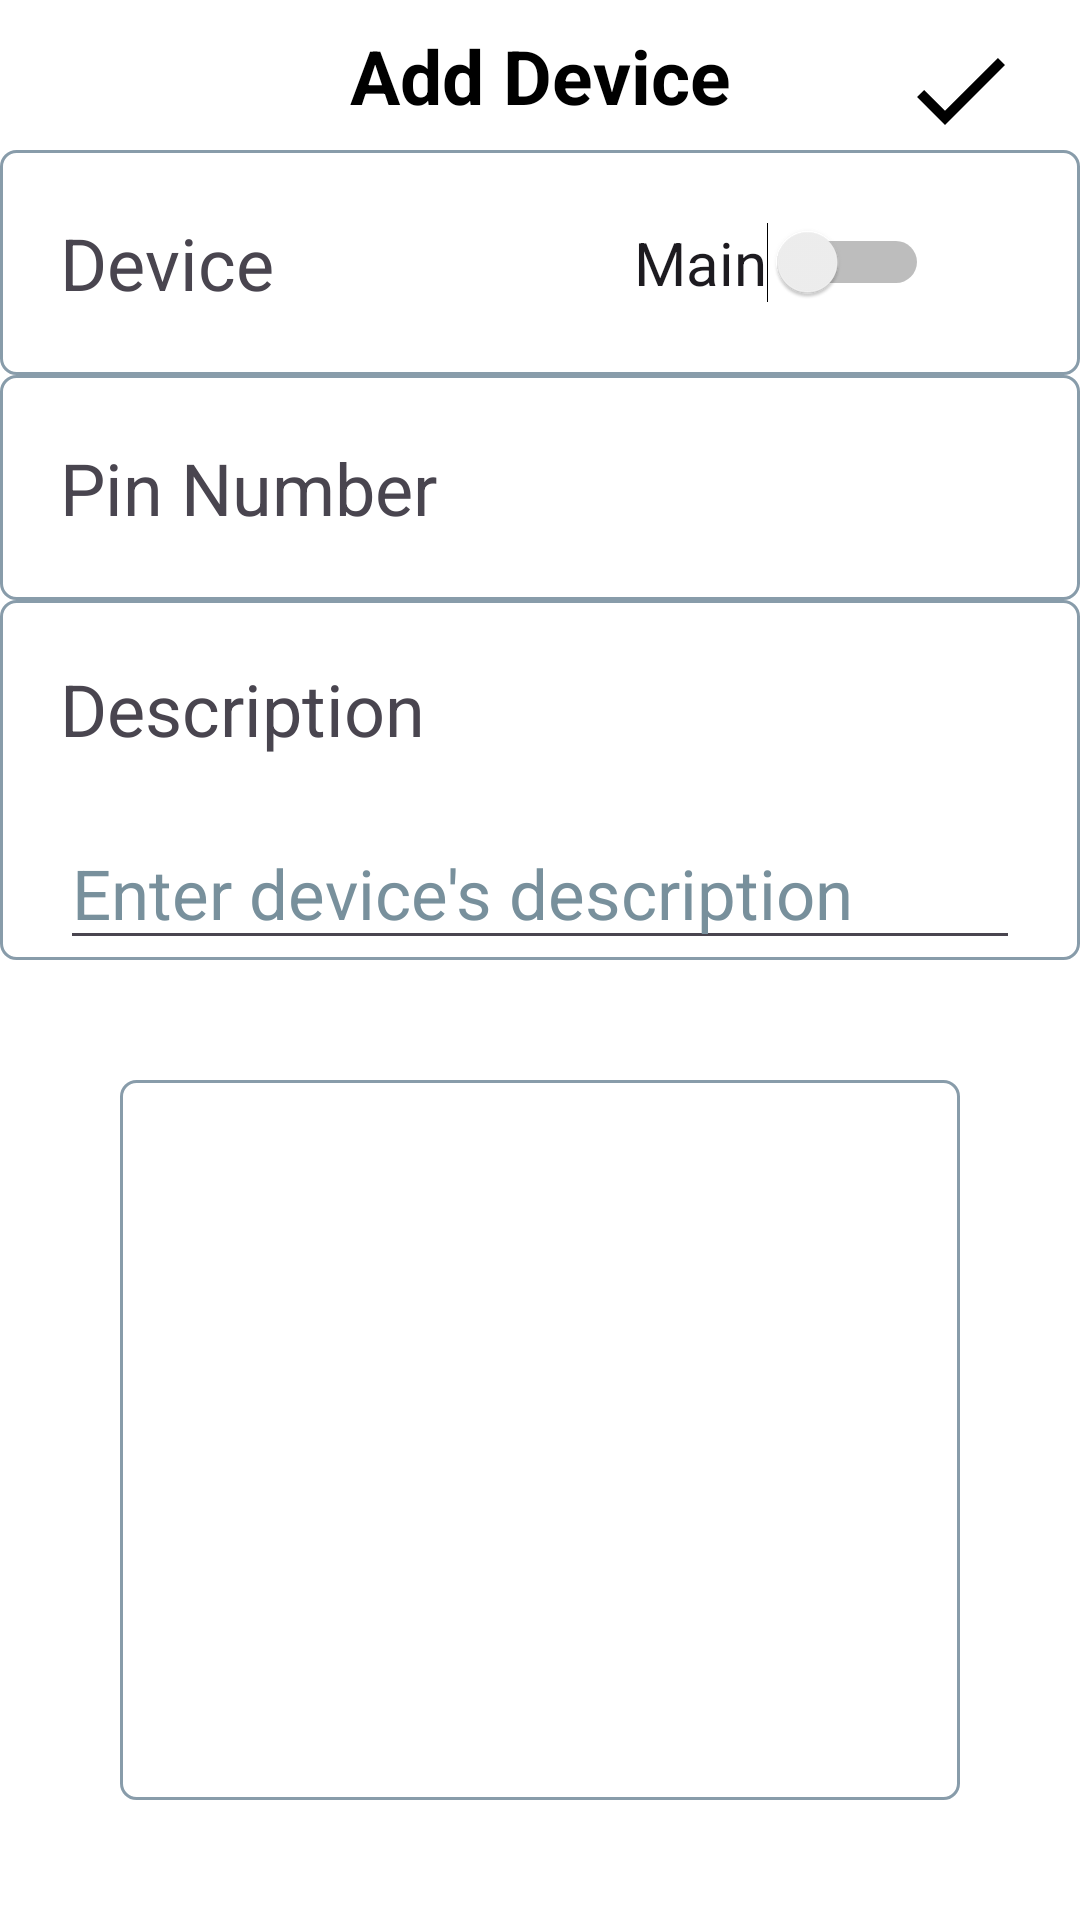

Named icons in this screenshot (1080 x 1920) and their centers, point (x, y):
check: point (961, 91)
